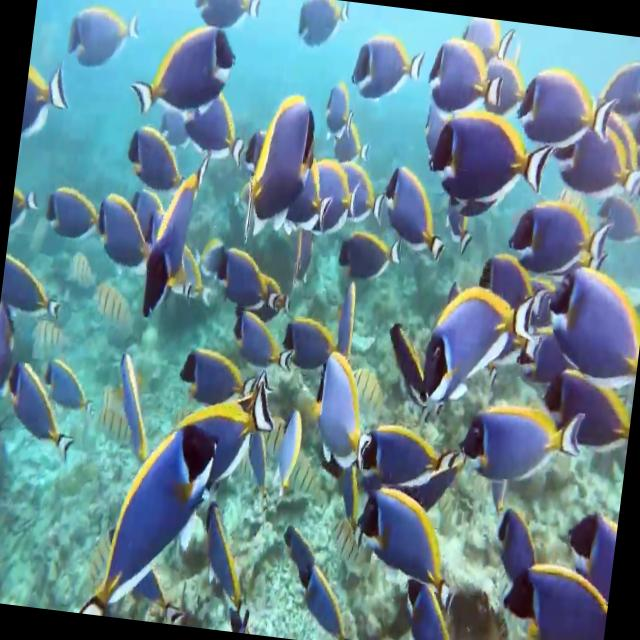fish: (78, 413, 222, 628), (416, 274, 536, 412), (349, 480, 470, 602), (425, 106, 552, 220), (536, 262, 640, 392), (139, 143, 213, 321), (456, 396, 586, 492), (180, 376, 276, 506), (244, 90, 320, 240), (132, 19, 239, 124), (272, 527, 366, 640), (505, 190, 615, 286), (512, 65, 620, 158), (308, 347, 384, 470), (540, 364, 636, 460), (189, 502, 257, 633), (0, 357, 83, 460), (374, 160, 454, 264), (352, 417, 460, 490), (511, 563, 611, 640), (425, 33, 509, 118), (554, 121, 640, 202), (204, 242, 286, 323), (348, 27, 428, 110), (90, 187, 157, 286), (103, 344, 160, 459), (63, 0, 142, 76), (302, 152, 364, 242), (179, 92, 252, 167), (124, 124, 196, 196), (231, 306, 300, 379), (177, 343, 257, 404), (0, 252, 67, 324), (40, 184, 110, 252), (396, 576, 470, 640), (489, 510, 543, 595), (334, 225, 404, 289), (277, 314, 342, 381), (38, 356, 100, 418), (270, 402, 306, 496), (295, 0, 351, 51), (320, 78, 360, 142), (192, 0, 260, 35), (332, 285, 356, 368)
